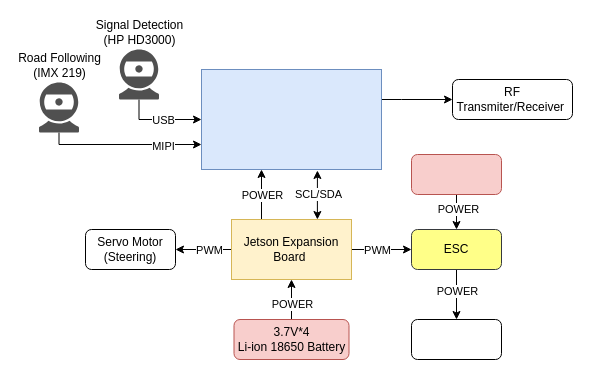
This 590x377 diagram has some shape labels left out. The centre of each missing label's shape, as x and y in pixels:
7.4V LiPo Battery: point (456, 174)
DC Motor: point (456, 339)
Jetson Nano 4GB: point (291, 119)
